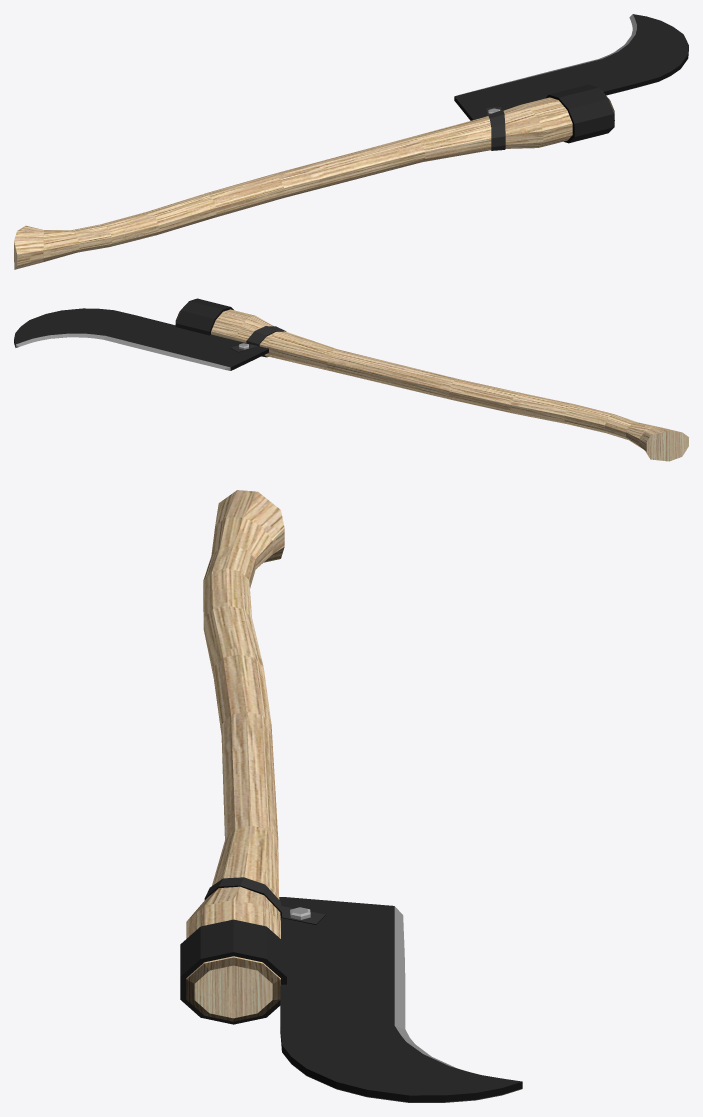
The model's file is WorldItem_BrushHook.fbx.
3 views of the same model, one above another, from view 1: azimuth 30°, elevation 25°; view 2: azimuth 150°, elevation 25°; view 3: azimuth 270°, elevation 25° (orthographic). The views are drawn at different scales.
Visible parts, largest first — view 1: ZomboidBrushHook; view 2: ZomboidBrushHook; view 3: ZomboidBrushHook.
Part boxes in pixels (x1,y1,x2,y2): ZomboidBrushHook: (14,14,688,269); ZomboidBrushHook: (14,298,688,461); ZomboidBrushHook: (180,490,522,1102).
Size of the model in its own units: 0.6635 by 0.0387 by 0.1609.
